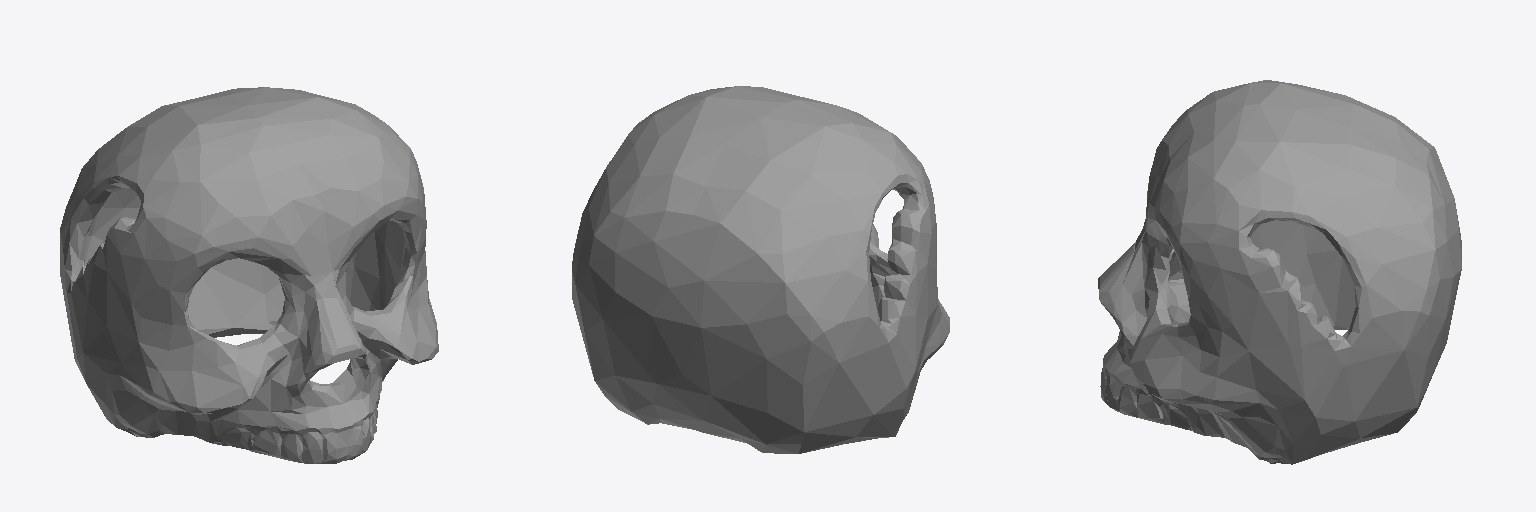
The model's file is Craneo.obj.
The picture shows the model from 3 angles: view 1: azimuth 30°, elevation 25°; view 2: azimuth 150°, elevation 25°; view 3: azimuth 270°, elevation 25°; orthographic projection.
Visible parts, largest first — view 1: Craneo; view 2: Craneo; view 3: Craneo.
Boxes of the visible parts, x1,y1,x2,y2 form: Craneo: [60, 87, 438, 463]; Craneo: [572, 86, 949, 453]; Craneo: [1098, 80, 1461, 464].
Bounding box in the file's own units: 21.16 × 18.63 × 20.83.